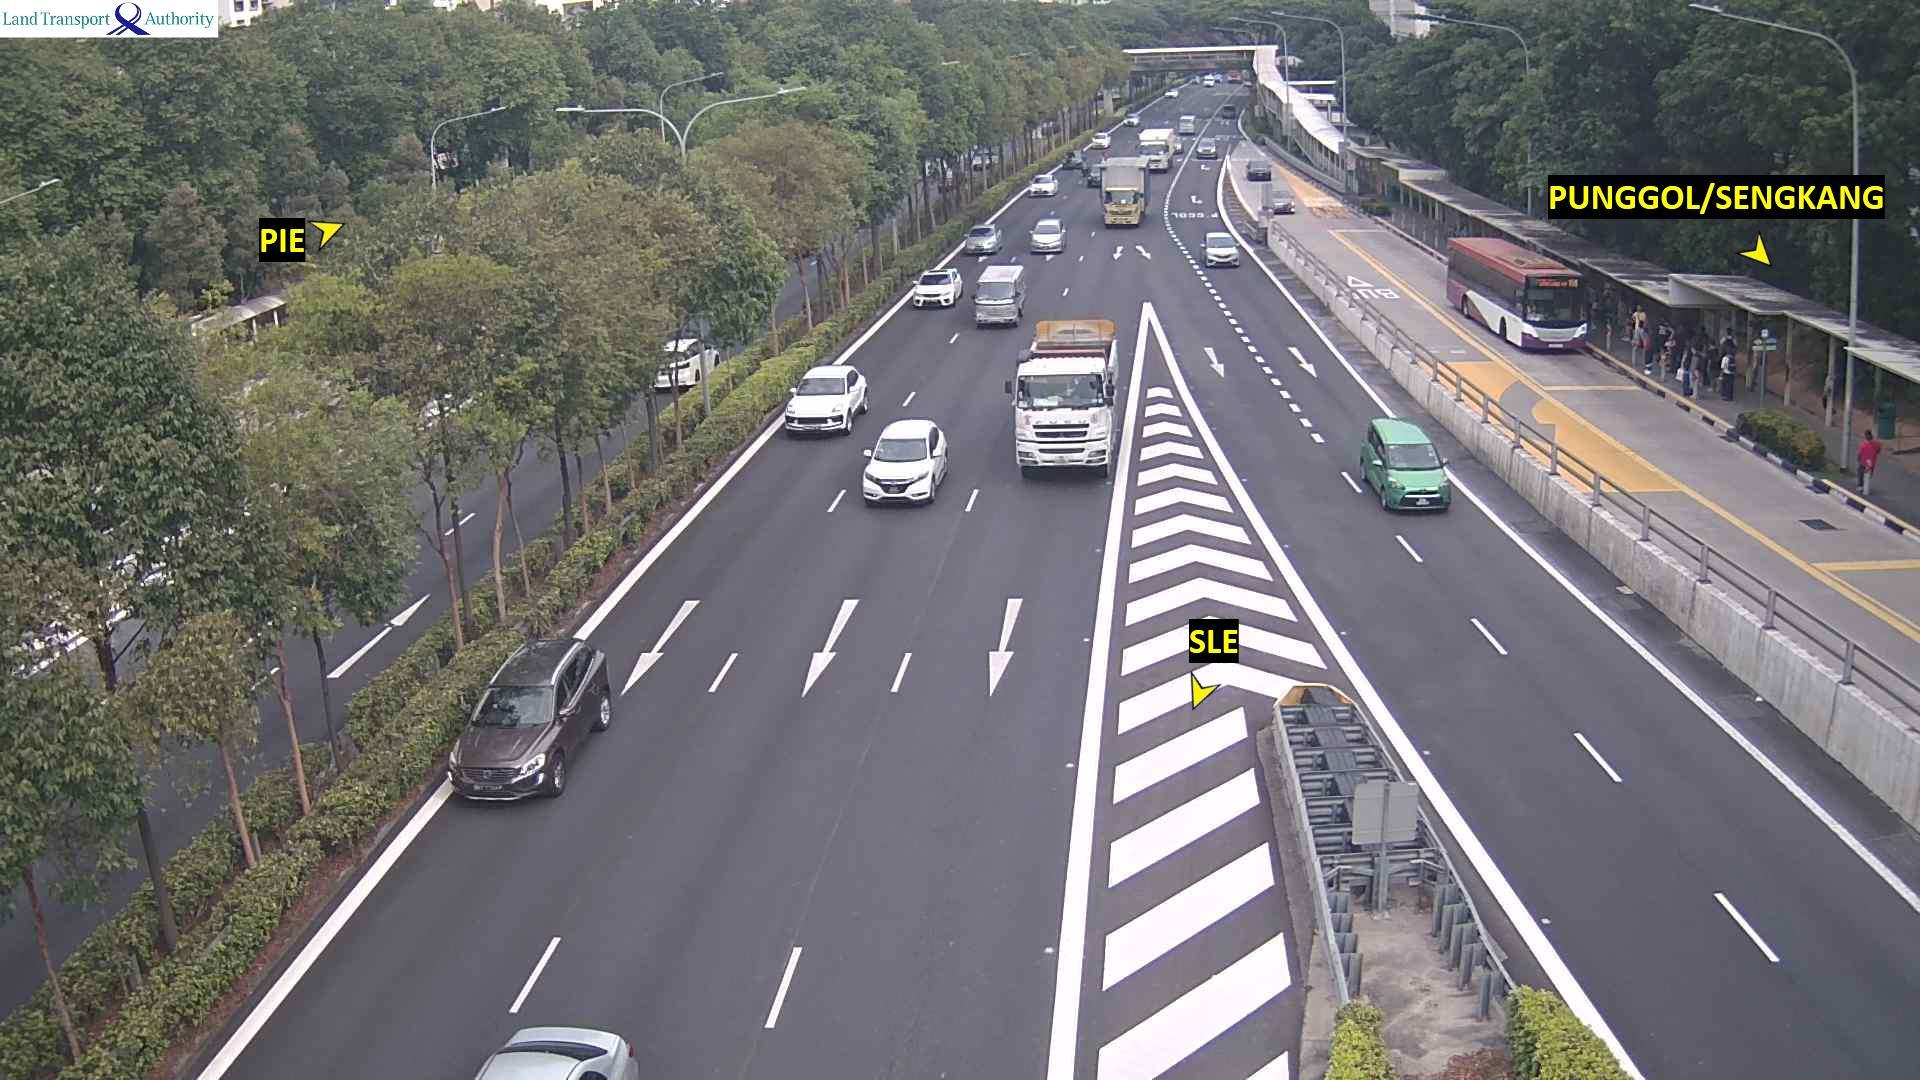bus: (1444, 235, 1591, 352)
cars: (446, 634, 612, 804), (472, 1024, 639, 1078), (1358, 417, 1451, 512), (860, 417, 949, 506), (782, 363, 869, 437), (651, 335, 720, 392), (972, 261, 1026, 327), (910, 267, 962, 308), (1202, 229, 1239, 267), (1028, 216, 1065, 253), (962, 223, 1000, 254), (1026, 172, 1057, 197), (1270, 187, 1294, 214), (1245, 157, 1271, 180), (1195, 137, 1217, 158), (1062, 149, 1083, 169), (1177, 113, 1196, 135), (1085, 163, 1102, 187), (1091, 130, 1110, 148), (1167, 131, 1182, 151), (1220, 103, 1235, 118), (1224, 70, 1241, 83), (1201, 73, 1218, 86), (1125, 111, 1139, 126), (1164, 87, 1178, 98)
trucks: (1004, 319, 1119, 479), (1099, 155, 1148, 226), (1137, 128, 1175, 172)
